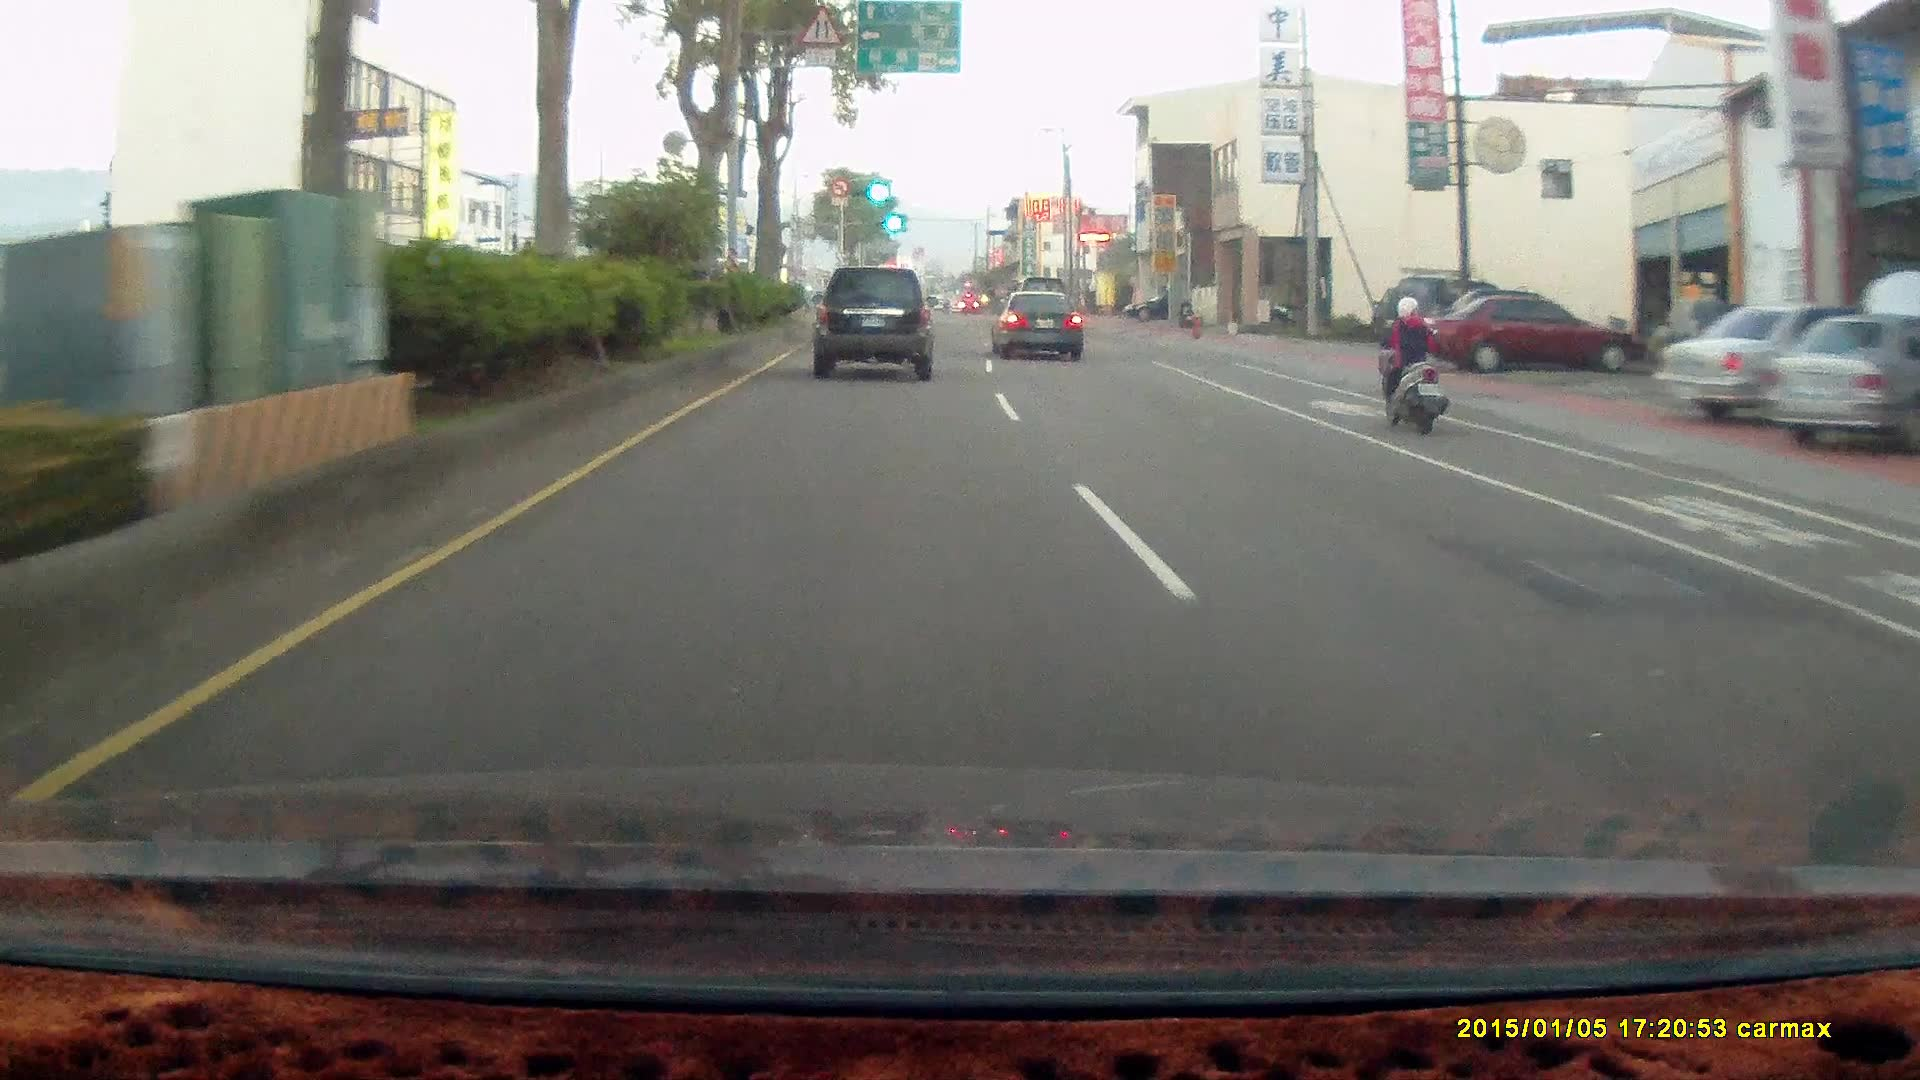rider: (1363, 283, 1460, 445), (1371, 293, 1445, 433)
vehicle: (1657, 306, 1878, 431), (1756, 315, 1920, 453), (1753, 315, 1920, 447), (1422, 297, 1637, 381), (1415, 295, 1643, 374), (811, 272, 938, 387), (813, 269, 935, 383), (1381, 273, 1515, 363), (1381, 274, 1507, 358), (988, 286, 1082, 357), (993, 291, 1087, 362), (1122, 292, 1194, 321)
